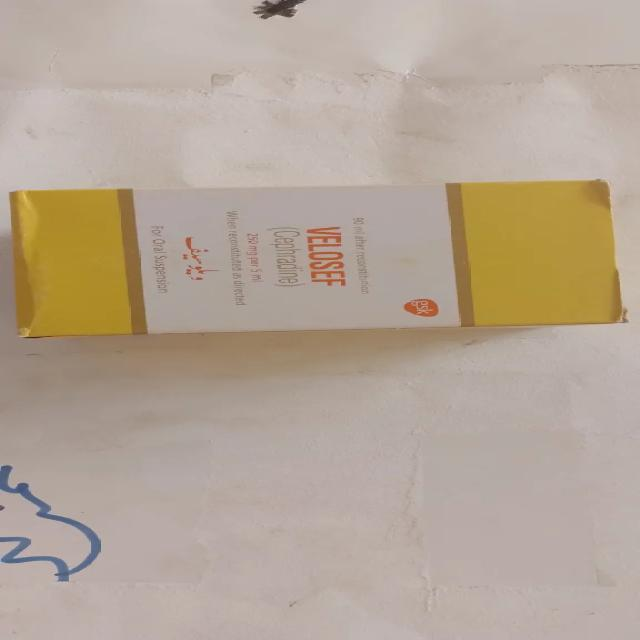drug-name: (305, 222, 350, 290)
